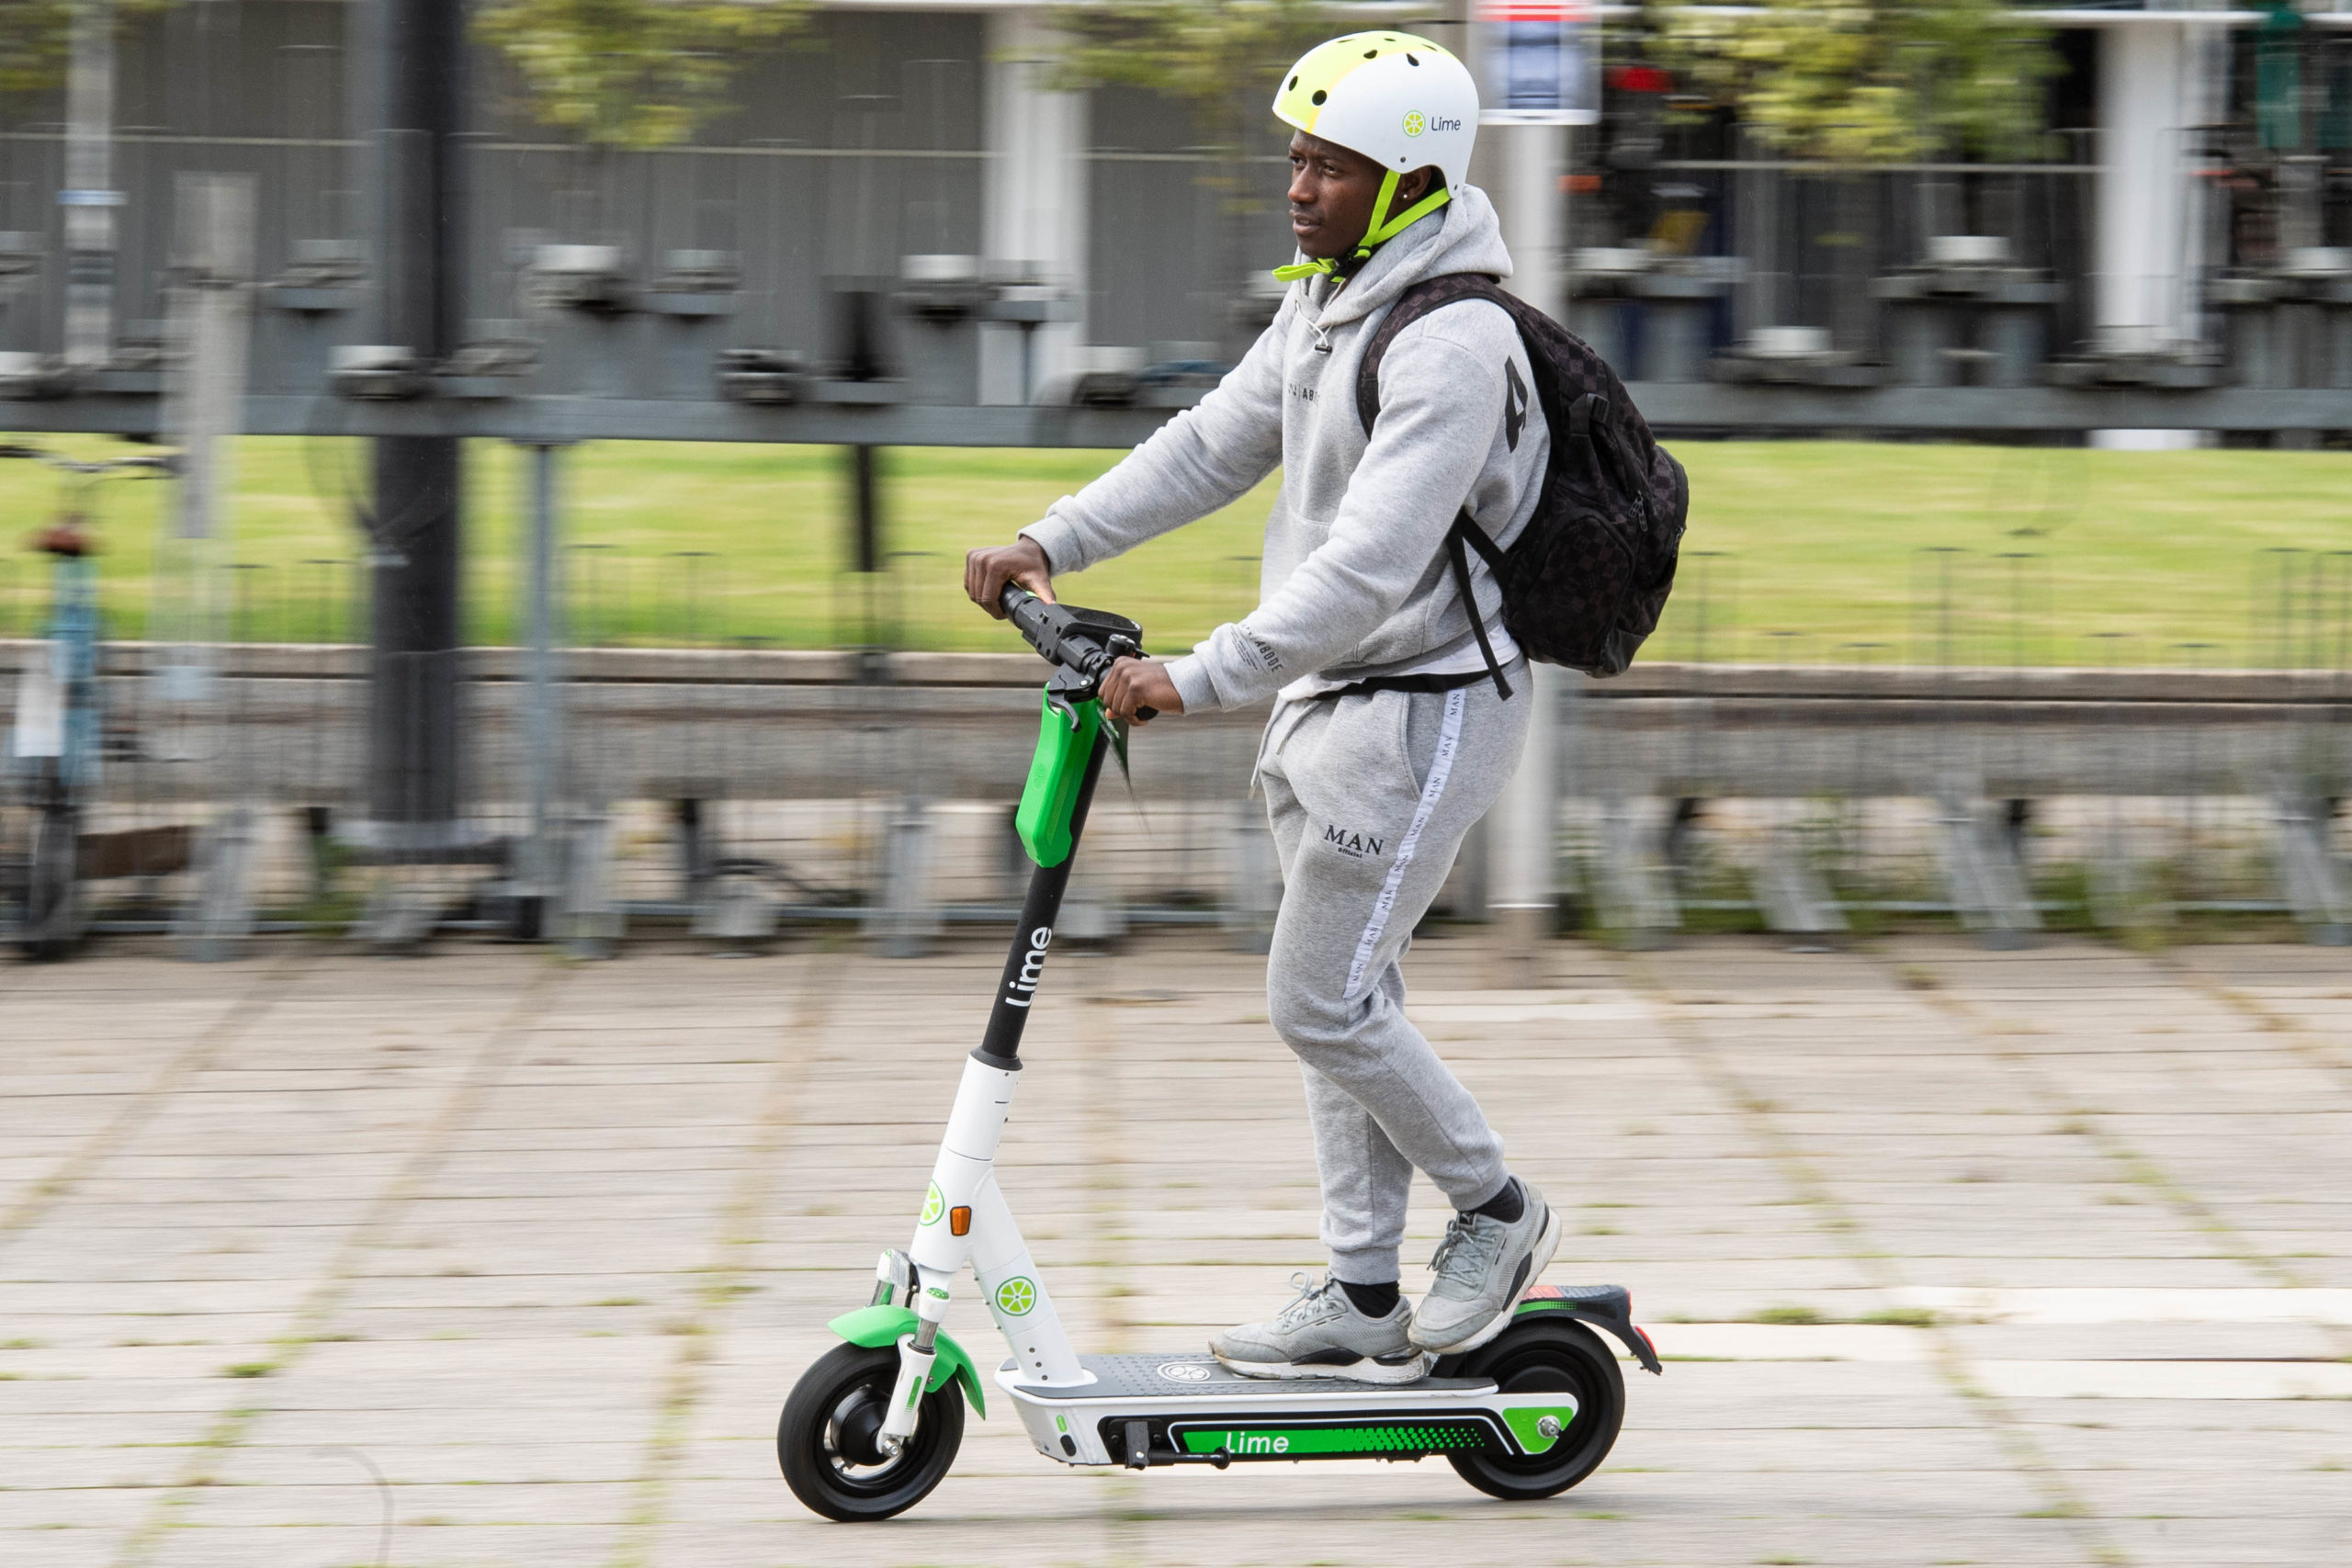scooter: (768, 539, 1652, 1522)
with helmet: (1258, 23, 1482, 303)
